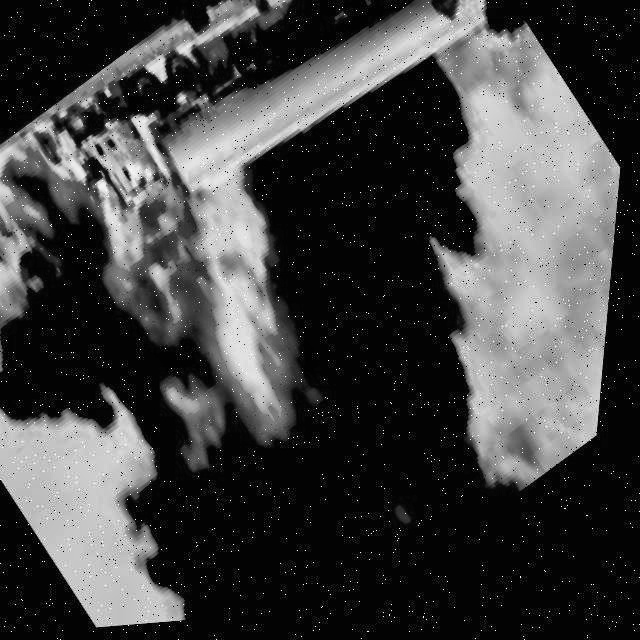Fire: (19, 30, 412, 465), (0, 142, 78, 272)
Smoke: (0, 41, 634, 638)
